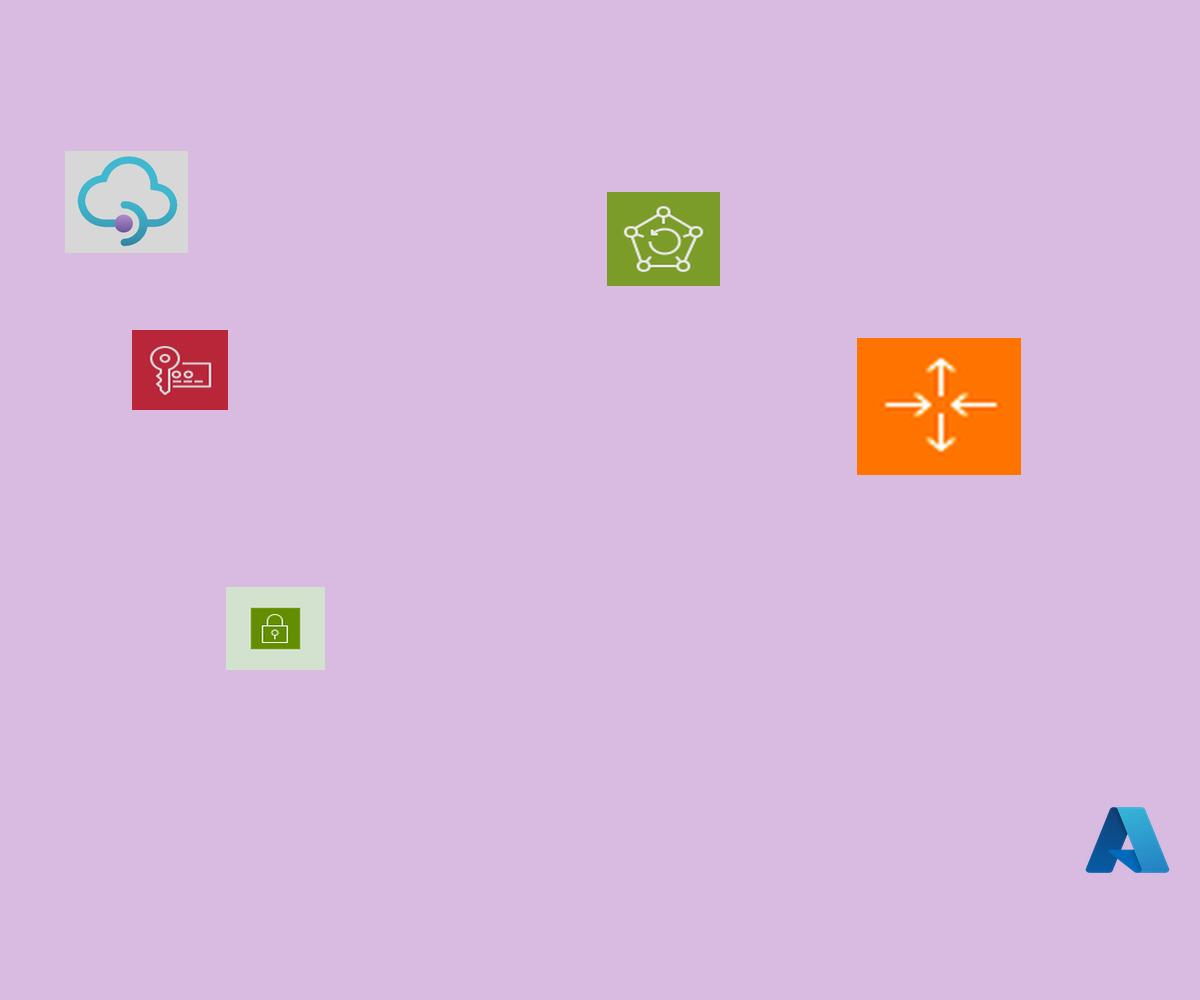AWS-Backup: (607, 192, 720, 286)
AWS-Key-Management-Service: (132, 330, 228, 410)
AWS-Public-subnet: (226, 587, 325, 670)
AWS-Scaling-group: (857, 338, 1021, 475)
Azure_api_gateway: (65, 151, 188, 253)
Azure_services: (1082, 802, 1173, 878)
